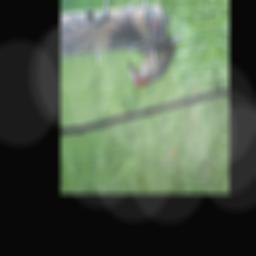Woodpecker: (124, 31, 189, 88)
